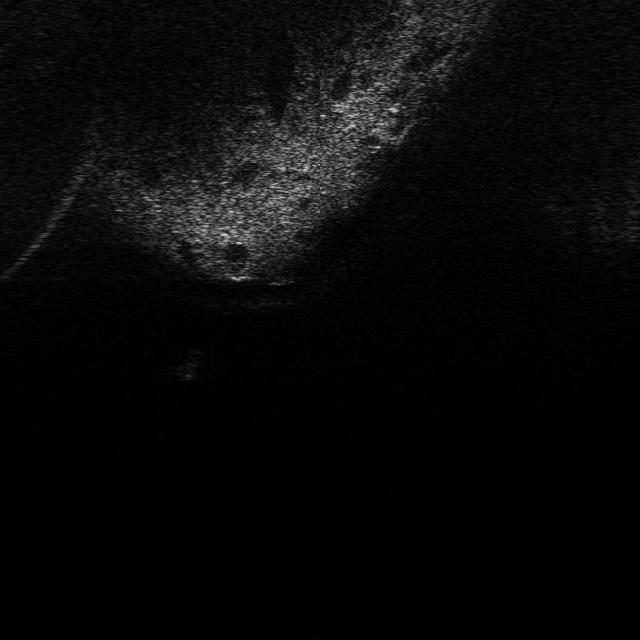cylinder: (167, 347, 206, 382)
